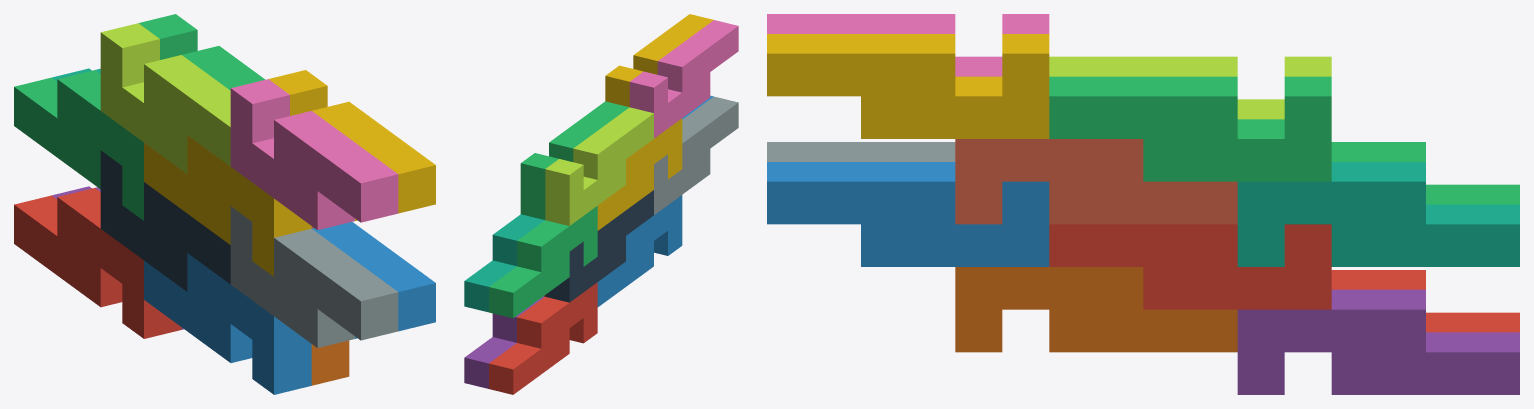
Rendered from tiling.obj.
The picture shows the model from 3 angles, left to right: view 1: azimuth 30°, elevation 25°; view 2: azimuth 150°, elevation 25°; view 3: azimuth 270°, elevation 25°; orthographic projection. The views are drawn at different scales.
Parts seen in each view (by area): view 1: copy_2_domain_4, copy_2_domain_2, copy_2_domain_3, copy_1_domain_1, copy_1_domain_2, copy_1_domain_3, copy_1_domain_4, copy_2_domain_1, copy_2_domain_8, copy_2_domain_6, copy_2_domain_7, copy_1_domain_6; view 2: copy_2_domain_3, copy_2_domain_4, copy_1_domain_1, copy_1_domain_3, copy_2_domain_2, copy_2_domain_1, copy_1_domain_2, copy_2_domain_7, copy_1_domain_4, copy_2_domain_8, copy_1_domain_7, copy_1_domain_5; view 3: copy_2_domain_7, copy_2_domain_8, copy_1_domain_5, copy_1_domain_7, copy_2_domain_6, copy_1_domain_6, copy_1_domain_8, copy_2_domain_5, copy_2_domain_3, copy_2_domain_4, copy_1_domain_1, copy_1_domain_3 (+1 smaller).
Boxes of the visible parts, left/top/right/bottom form: copy_2_domain_4: left=230, top=79, right=398, bottom=230; copy_2_domain_2: left=230, top=206, right=398, bottom=347; copy_2_domain_3: left=100, top=23, right=230, bottom=173; copy_1_domain_1: left=14, top=188, right=181, bottom=338; copy_1_domain_2: left=144, top=253, right=311, bottom=394; copy_1_domain_3: left=14, top=70, right=143, bottom=220; copy_1_domain_4: left=144, top=135, right=311, bottom=276; copy_2_domain_1: left=100, top=150, right=230, bottom=291; copy_2_domain_8: left=268, top=70, right=435, bottom=220; copy_2_domain_6: left=312, top=222, right=435, bottom=338; copy_2_domain_7: left=138, top=14, right=265, bottom=90; copy_1_domain_6: left=311, top=340, right=349, bottom=385; copy_2_domain_3: left=545, top=107, right=653, bottom=225; copy_2_domain_4: left=629, top=20, right=738, bottom=138; copy_1_domain_1: left=489, top=282, right=597, bottom=394; copy_1_domain_3: left=489, top=206, right=597, bottom=318; copy_2_domain_2: left=654, top=96, right=738, bottom=214; copy_2_domain_1: left=545, top=190, right=653, bottom=302; copy_1_domain_2: left=597, top=195, right=682, bottom=307; copy_2_domain_7: left=520, top=101, right=628, bottom=219; copy_1_domain_4: left=597, top=118, right=682, bottom=230; copy_2_domain_8: left=605, top=14, right=713, bottom=107; copy_1_domain_7: left=464, top=214, right=544, bottom=312; copy_1_domain_5: left=464, top=296, right=544, bottom=388; copy_2_domain_7: left=1049, top=76, right=1331, bottom=181; copy_2_domain_8: left=767, top=34, right=1049, bottom=138; copy_1_domain_5: left=1237, top=289, right=1519, bottom=394; copy_1_domain_7: left=1237, top=162, right=1519, bottom=266; copy_2_domain_6: left=767, top=162, right=1049, bottom=266; copy_1_domain_6: left=955, top=267, right=1237, bottom=352; copy_1_domain_8: left=955, top=139, right=1237, bottom=224; copy_2_domain_5: left=1049, top=224, right=1331, bottom=309; copy_2_domain_3: left=1049, top=56, right=1331, bottom=119; copy_2_domain_4: left=767, top=14, right=1049, bottom=76; copy_1_domain_1: left=1331, top=270, right=1519, bottom=332; copy_1_domain_3: left=1331, top=142, right=1519, bottom=204.
Size of the model in its own units: 2 by 8 by 16.
